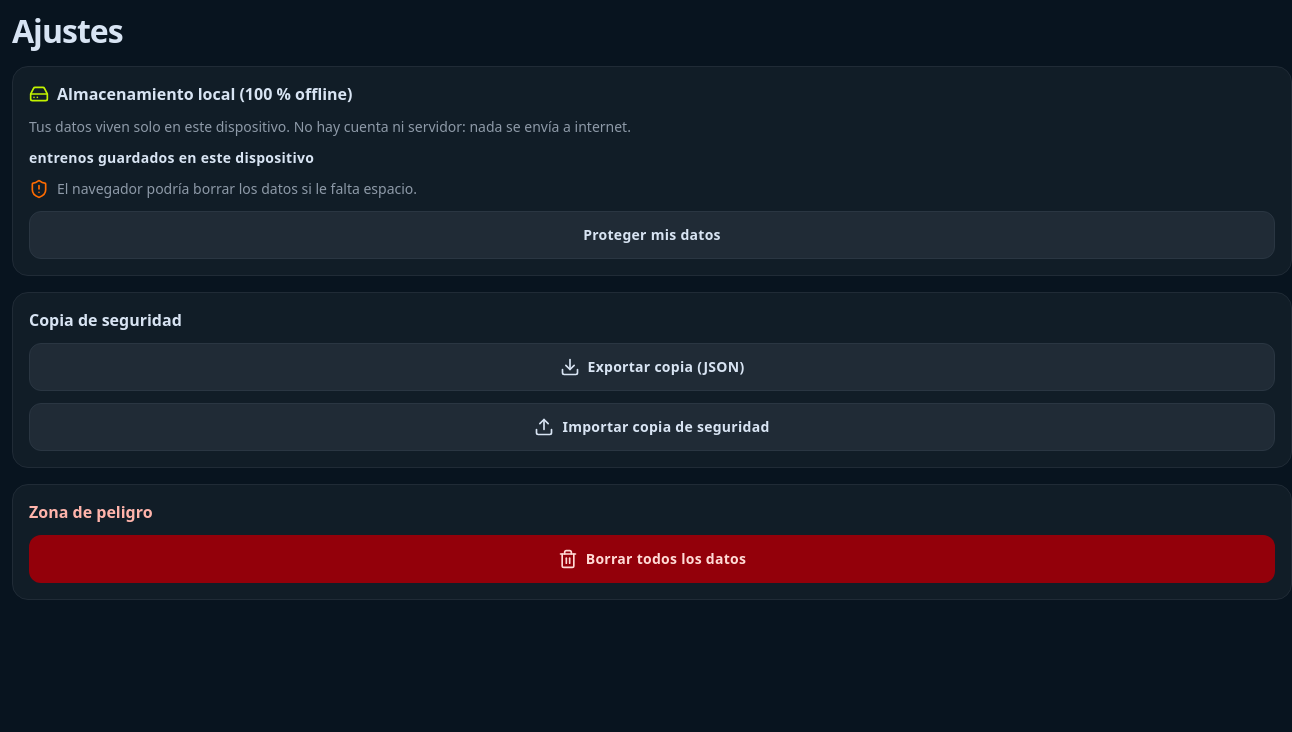
it: almacenamiento persistente › si el navegador lo deniega avisa y sigue ofreciéndolo
Step 1. Click the button "Proteger mis datos" → (652, 235), box [29, 211, 1275, 259]
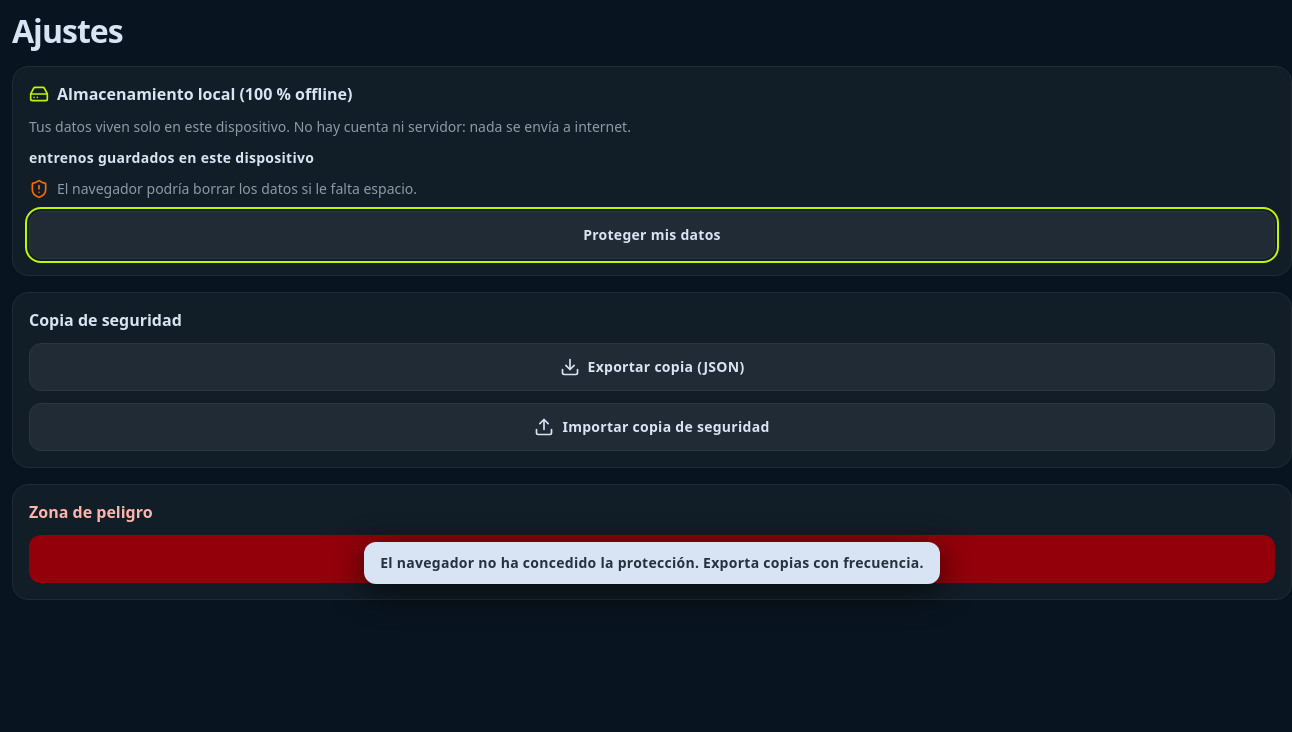
Check: the text "no ha concedido la protección" is shown, box [380, 553, 924, 572]
